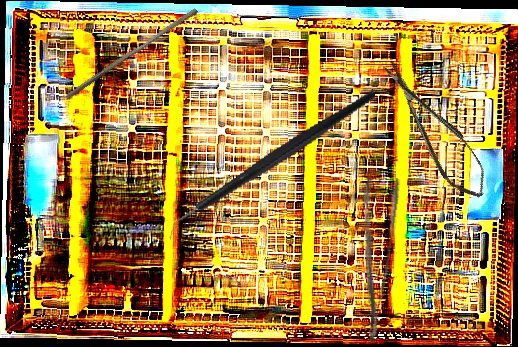Chopper: (147, 89, 397, 243)
Dressing Forceps: (340, 173, 404, 346)
Micro Scissor: (375, 51, 496, 208)
Pusher: (64, 3, 199, 105)
